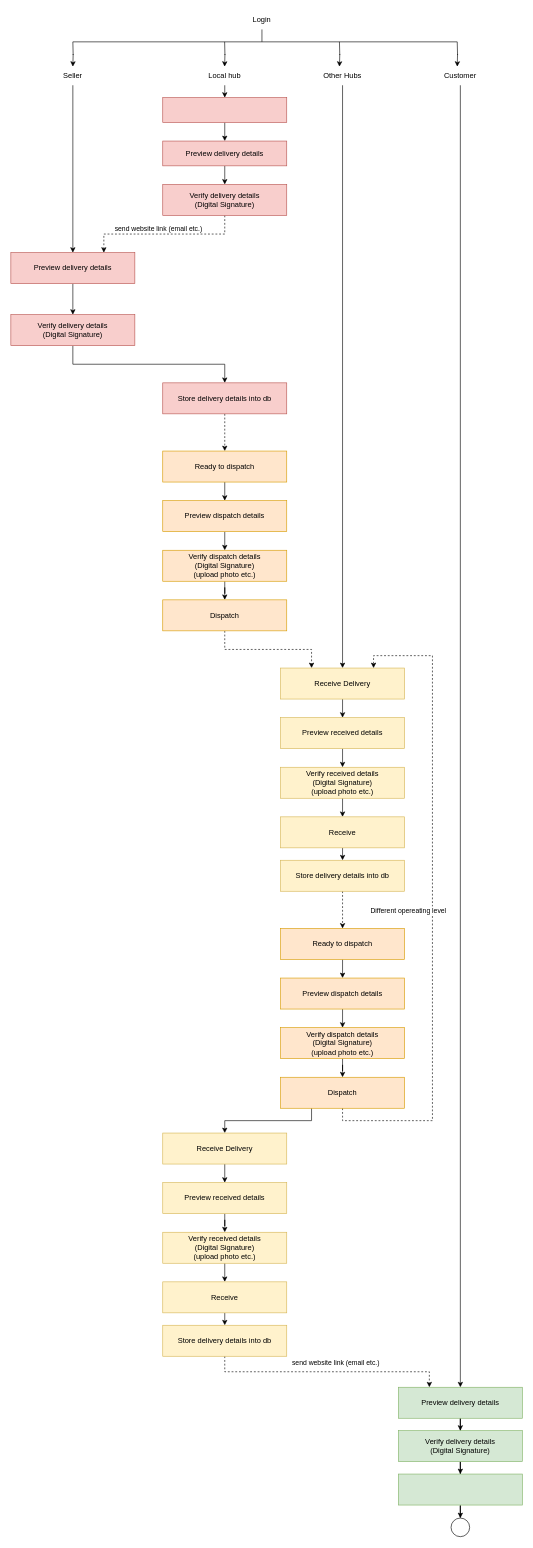
This 533x1548 diagram has some shape labels left out. The shapes that lost their labels are listed below. From the top down, each one's centre as x and y in pixels, then its label:
At point 224,109: "Create new delivery (upload photo etc.)".
At point 460,1489: "Delivered".
